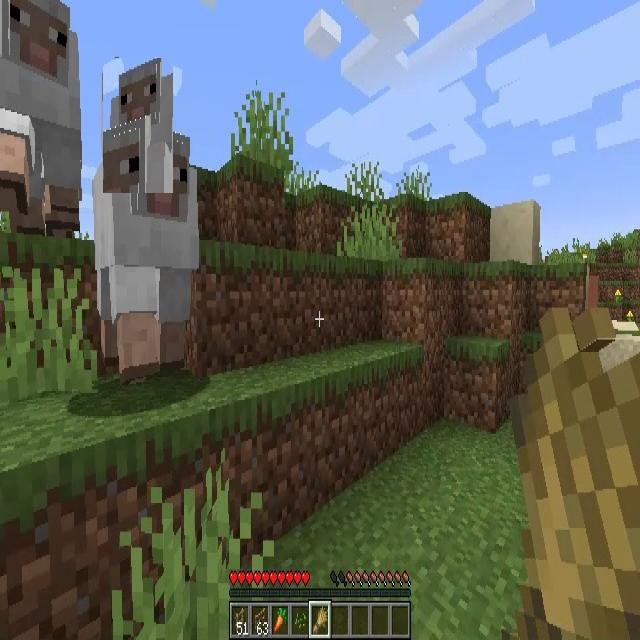sheep: (93, 127, 201, 371), (0, 0, 80, 235), (103, 58, 173, 193)
